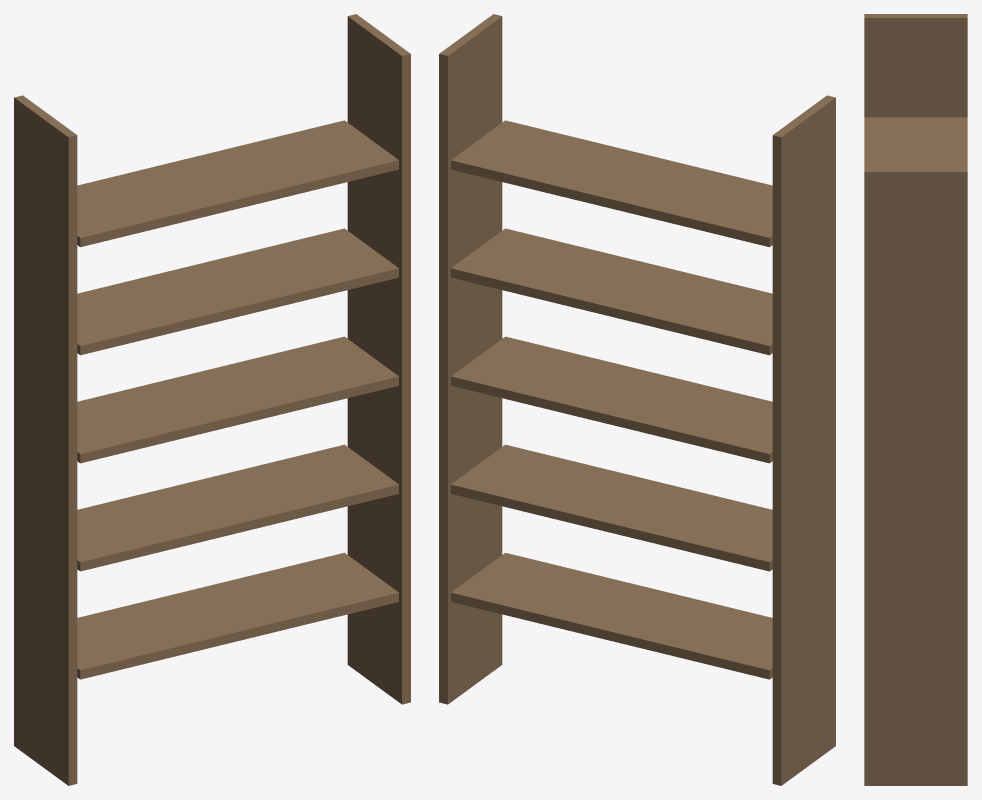
Rendered from bookshelf_03.glb.
The picture shows the model from 3 angles, left to right: view 1: azimuth 30°, elevation 25°; view 2: azimuth 150°, elevation 25°; view 3: azimuth 270°, elevation 25°; orthographic projection. The views are drawn at different scales.
Bounding box in the file's own units: 1.16 × 2.1 × 0.32.
